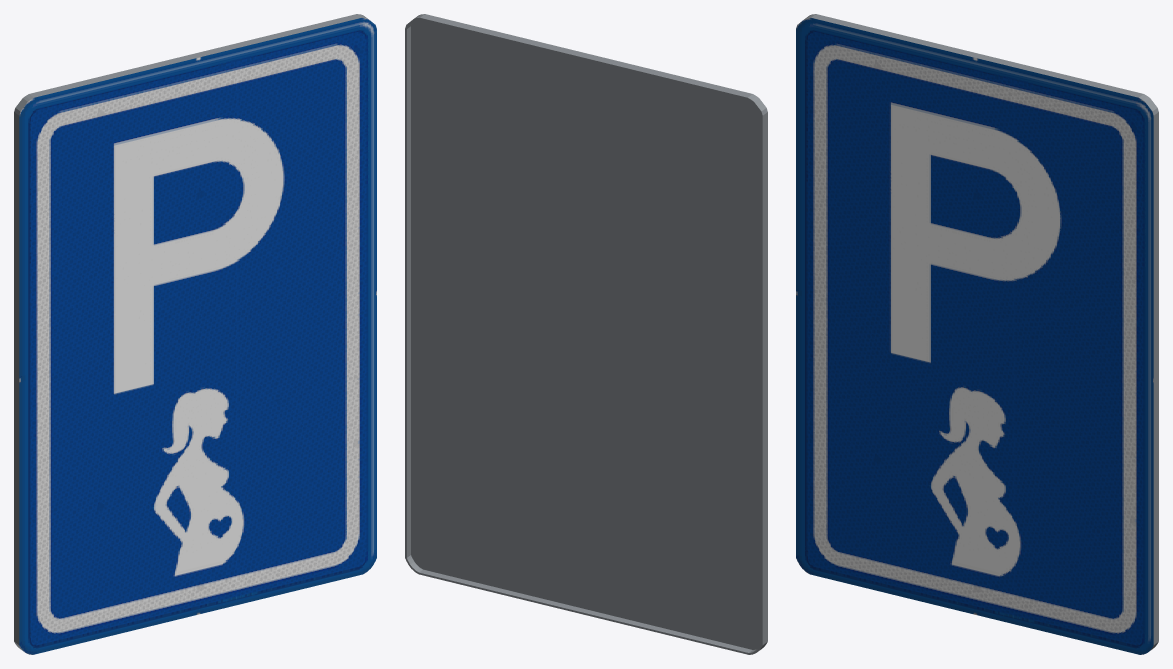
The picture shows the model from 3 angles, left to right: view 1: azimuth 30°, elevation 25°; view 2: azimuth 150°, elevation 25°; view 3: azimuth 330°, elevation 25°; orthographic projection.
Parts seen in each view (by area): view 1: cat_e5af9e4d2327bdbf; view 2: cat_e5af9e4d2327bdbf; view 3: cat_e5af9e4d2327bdbf.
Boxes of the visible parts, x1=… form: cat_e5af9e4d2327bdbf: x1=14, y1=14, x2=376, y2=654; cat_e5af9e4d2327bdbf: x1=405, y1=14, x2=767, y2=654; cat_e5af9e4d2327bdbf: x1=796, y1=14, x2=1158, y2=654.
Size of the model in its own units: 0.6 by 0.015 by 0.8927.
2 materials, 1 textured.
